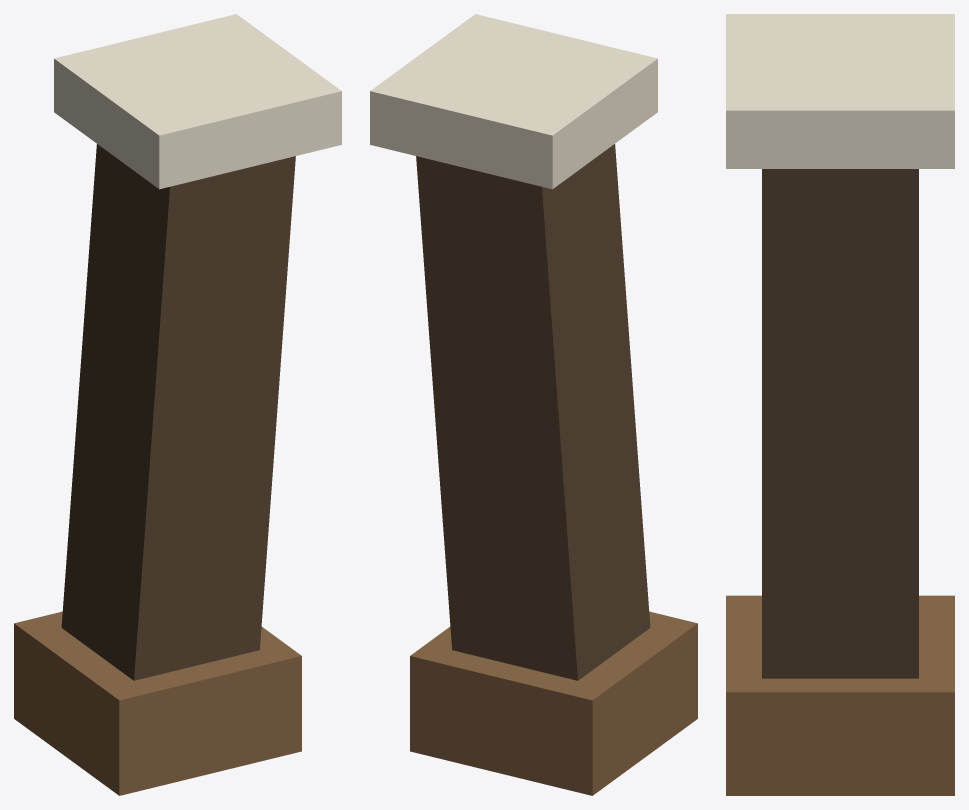
The model's file is fence-post.glb.
3 renders of one model, left to right at view 1: azimuth 30°, elevation 25°; view 2: azimuth 150°, elevation 25°; view 3: azimuth 270°, elevation 25°, orthographic. The views are drawn at different scales.
Visible parts, largest first — view 1: fence-post; view 2: fence-post; view 3: fence-post.
Part boxes in pixels (<box>): fence-post: <box>14,14,341,795</box>; fence-post: <box>370,14,697,795</box>; fence-post: <box>726,14,954,795</box>.
Size of the model in its own units: 0.39 by 1.09 by 0.32.
1 material, 1 textured.
